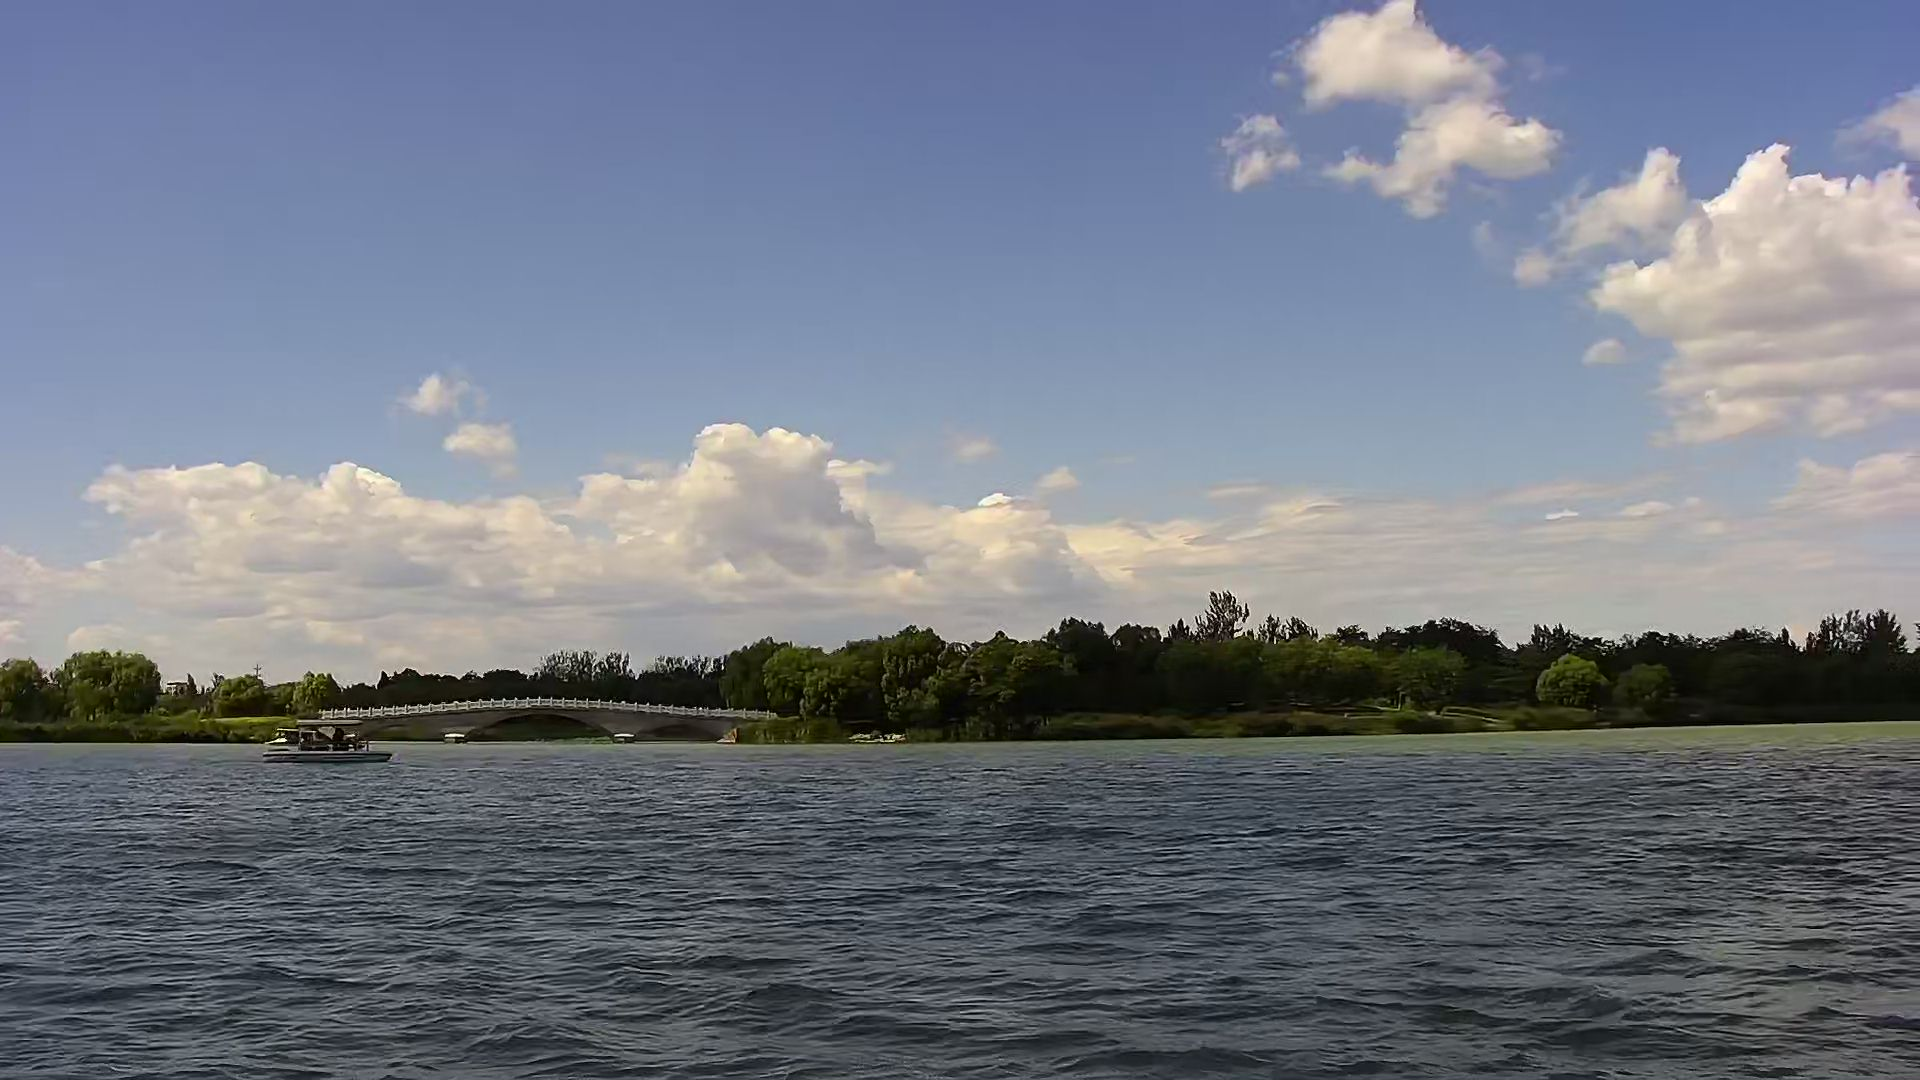boat: (262, 709, 396, 774)
bridge: (347, 698, 777, 749)
